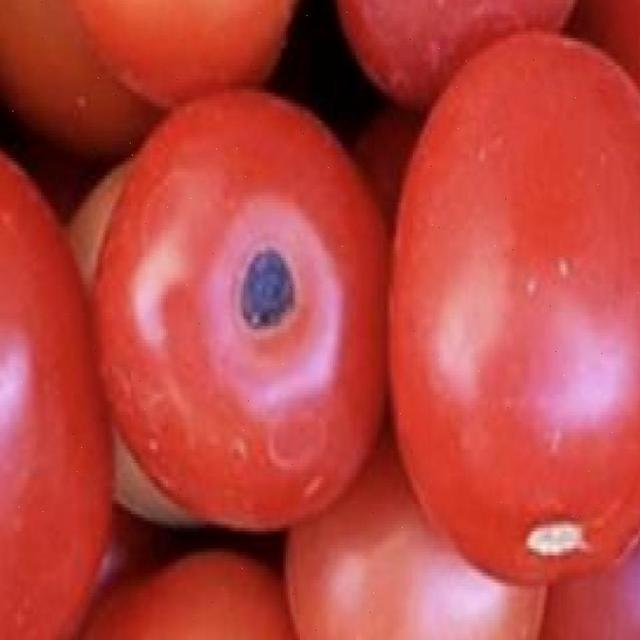Blossom End Rot Fruit: (151, 164, 203, 230)
